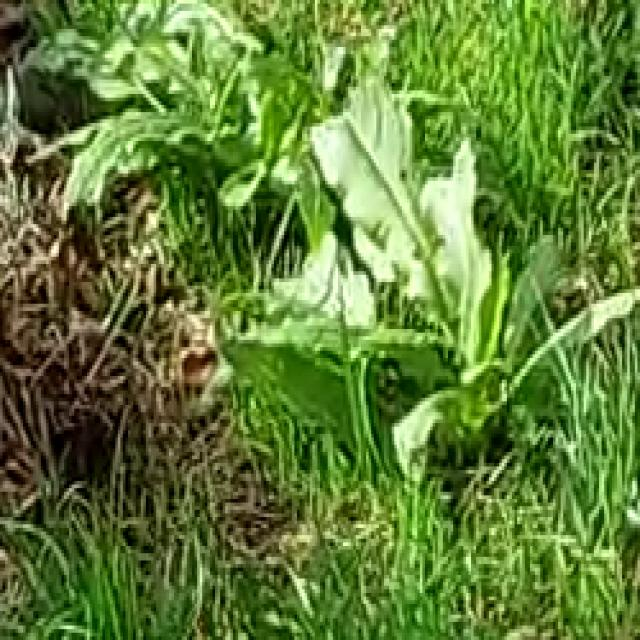organic waste: (146, 11, 640, 513)
